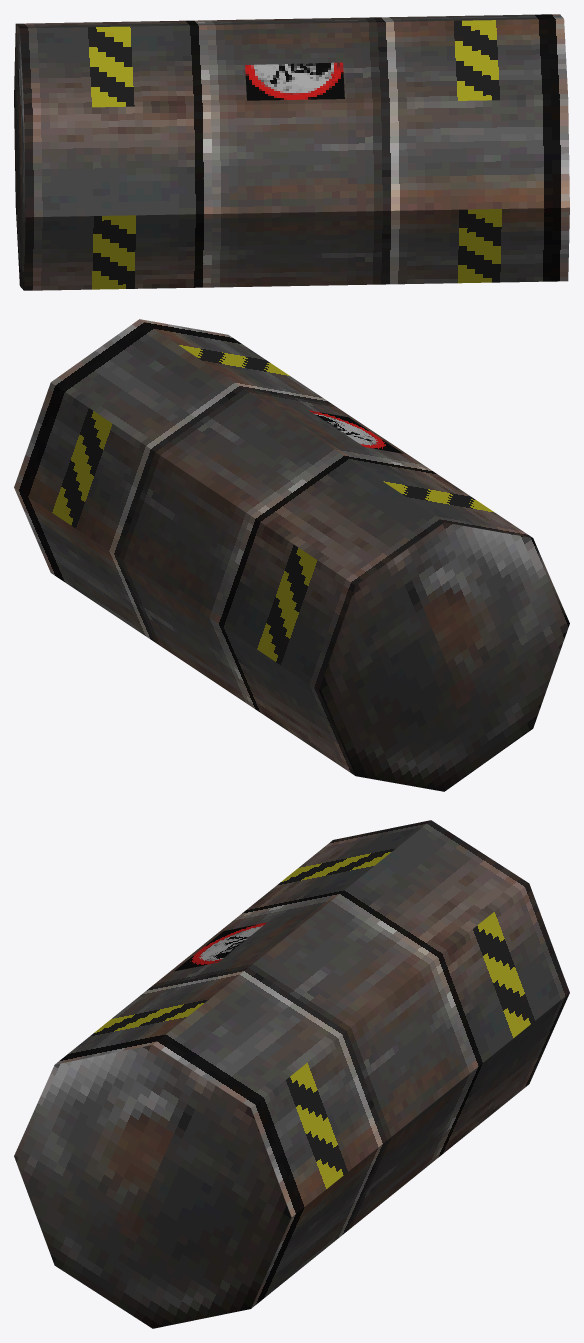
File: primary_141.glb
The picture shows the model from 3 angles, top to bottom: view 1: azimuth 30°, elevation 25°; view 2: azimuth 150°, elevation 25°; view 3: azimuth 270°, elevation 25°; orthographic projection. The views are drawn at different scales.
Parts seen in each view (by area): view 1: Object; view 2: Object; view 3: Object.
Boxes of the visible parts, x1,y1,x2,y2 form: Object: (14, 14, 569, 290); Object: (14, 319, 569, 791); Object: (14, 820, 569, 1328).
Bounding box in the file's own units: 1.69 × 0.7803 × 1.38.
9 materials, 9 textured.
